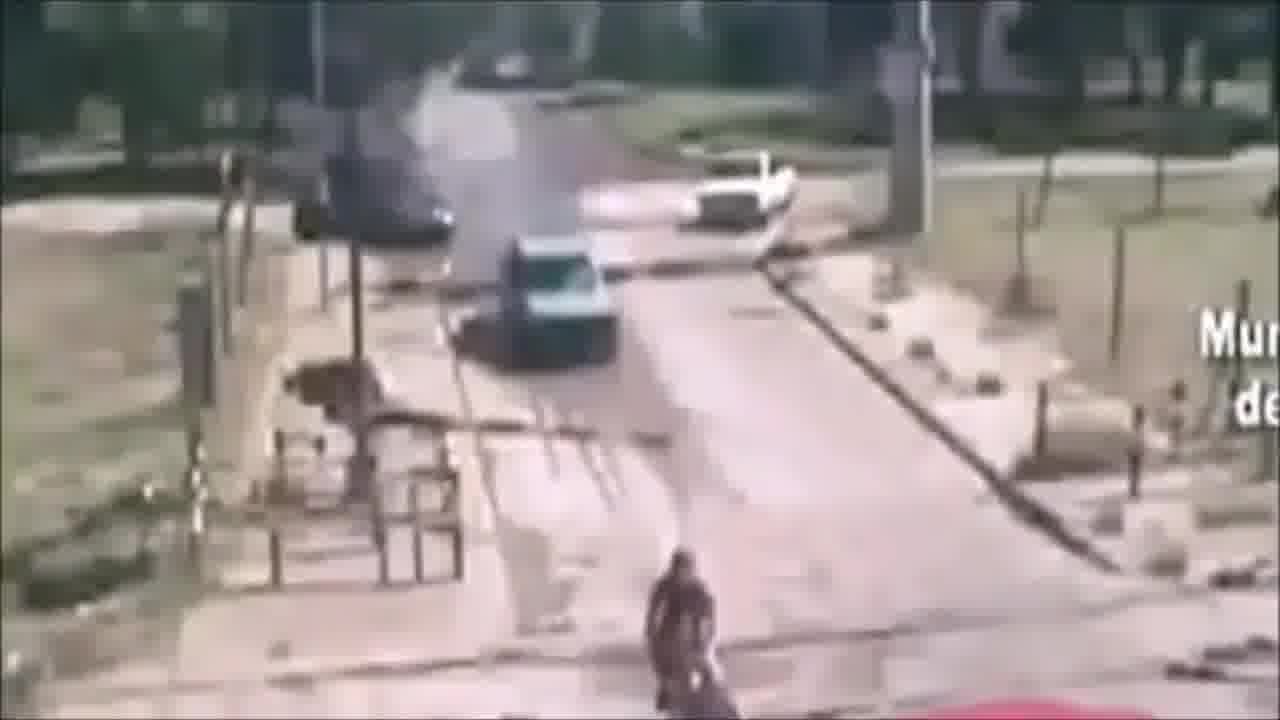crossing railway track: (594, 536, 787, 720)
